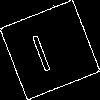I: (24, 25, 54, 73)
